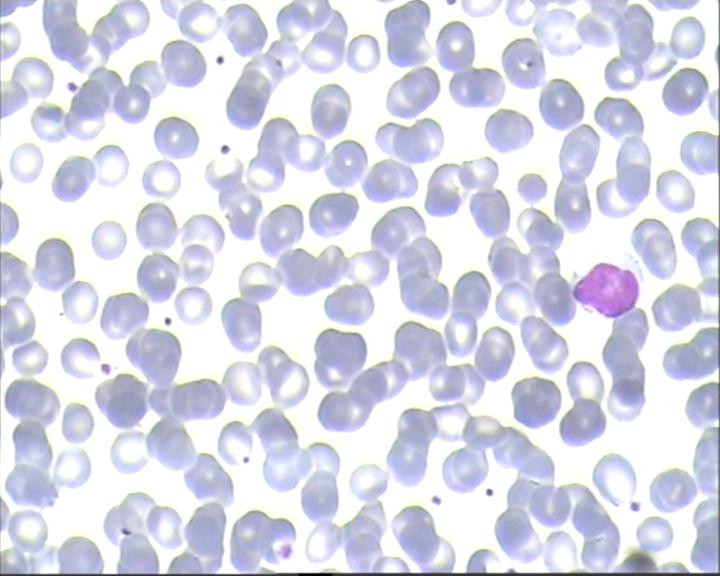lymp: (569, 248, 648, 322)
